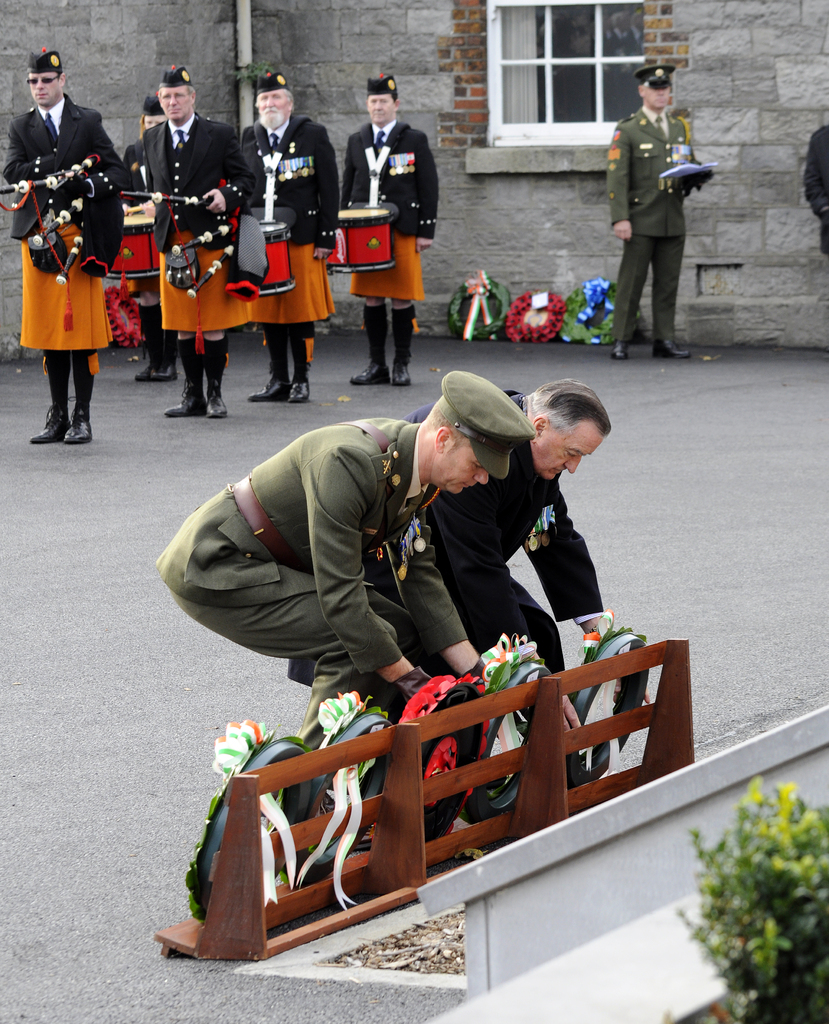Footwear: (346, 307, 386, 385), (164, 335, 201, 415), (250, 324, 287, 399), (390, 308, 418, 389), (288, 324, 313, 401), (28, 406, 72, 447), (208, 340, 226, 419), (65, 408, 93, 447), (135, 361, 178, 380), (656, 337, 694, 357), (610, 338, 628, 363)
